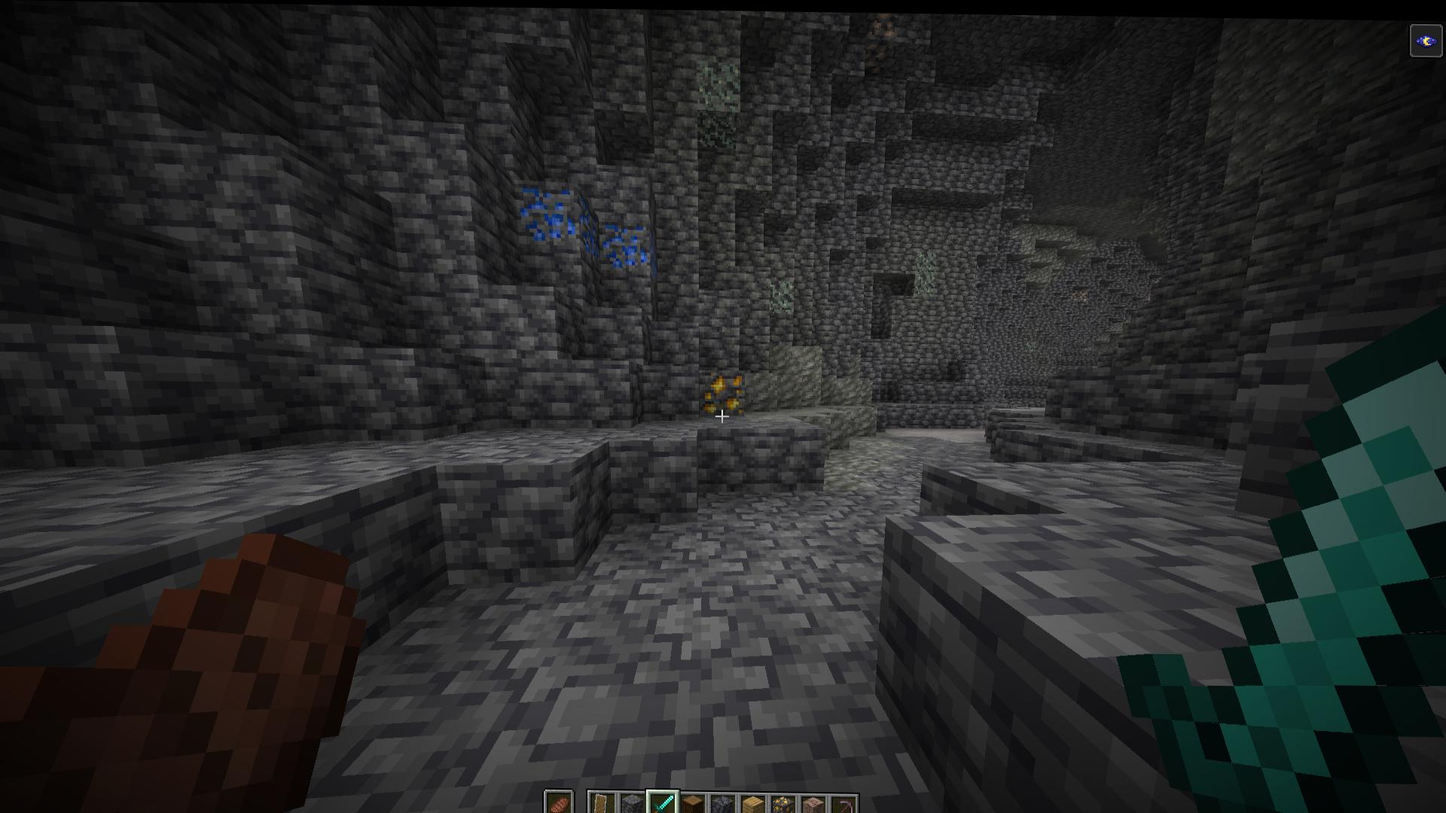gold ore: (699, 364, 750, 412)
iron ore: (863, 12, 897, 73), (1071, 282, 1090, 300)
